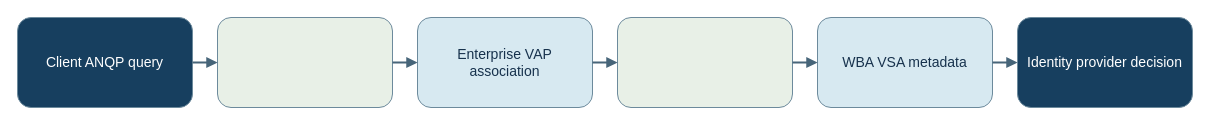
This 1210x125 diagram has some shape labels left out. Here are the shapes that lost their labels. From the top down, the box of each, then its label:
(216, 16, 392, 108): Roaming OI advertisement
(616, 16, 792, 108): FortiGate RADIUS Access-Request
